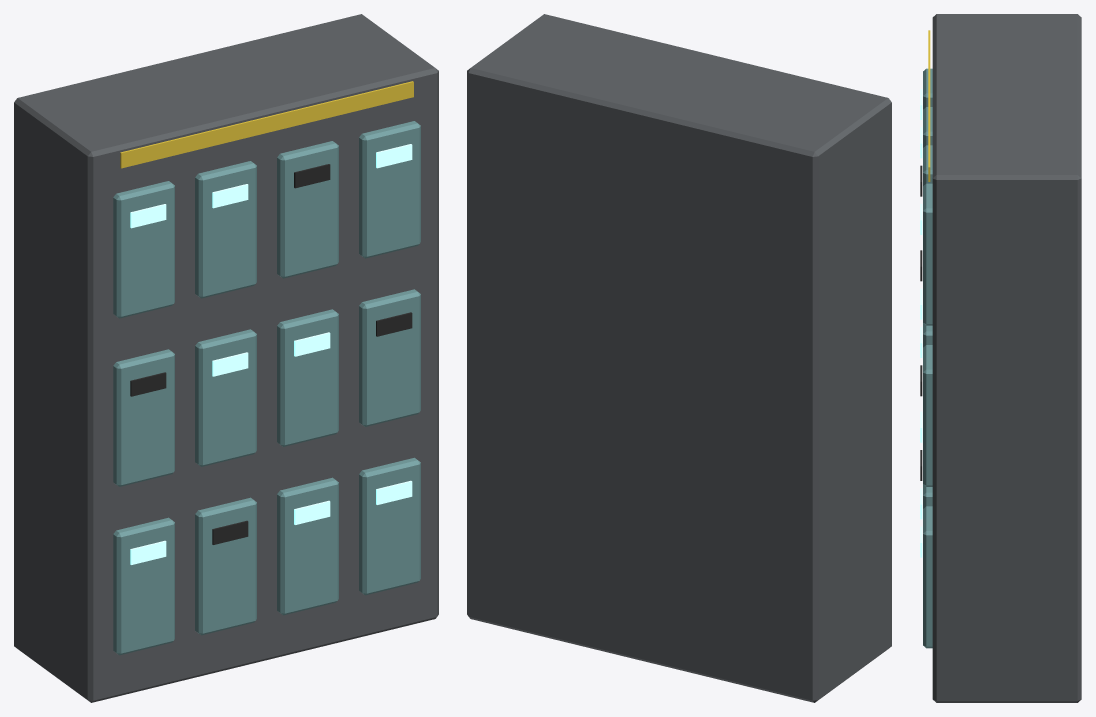
Rendered from power_cell_rack.glb.
3 renders of one model, left to right at view 1: azimuth 30°, elevation 25°; view 2: azimuth 150°, elevation 25°; view 3: azimuth 270°, elevation 25°, orthographic. The views are drawn at different scales.
Parts seen in each view (by area): view 1: power_cell_rack; view 2: power_cell_rack; view 3: power_cell_rack.
Boxes of the visible parts, x1=… form: power_cell_rack: x1=14, y1=14, x2=438, y2=702; power_cell_rack: x1=467, y1=14, x2=891, y2=702; power_cell_rack: x1=920, y1=14, x2=1081, y2=702.
Size of the model in its own units: 1.2 by 1.8 by 0.498.
